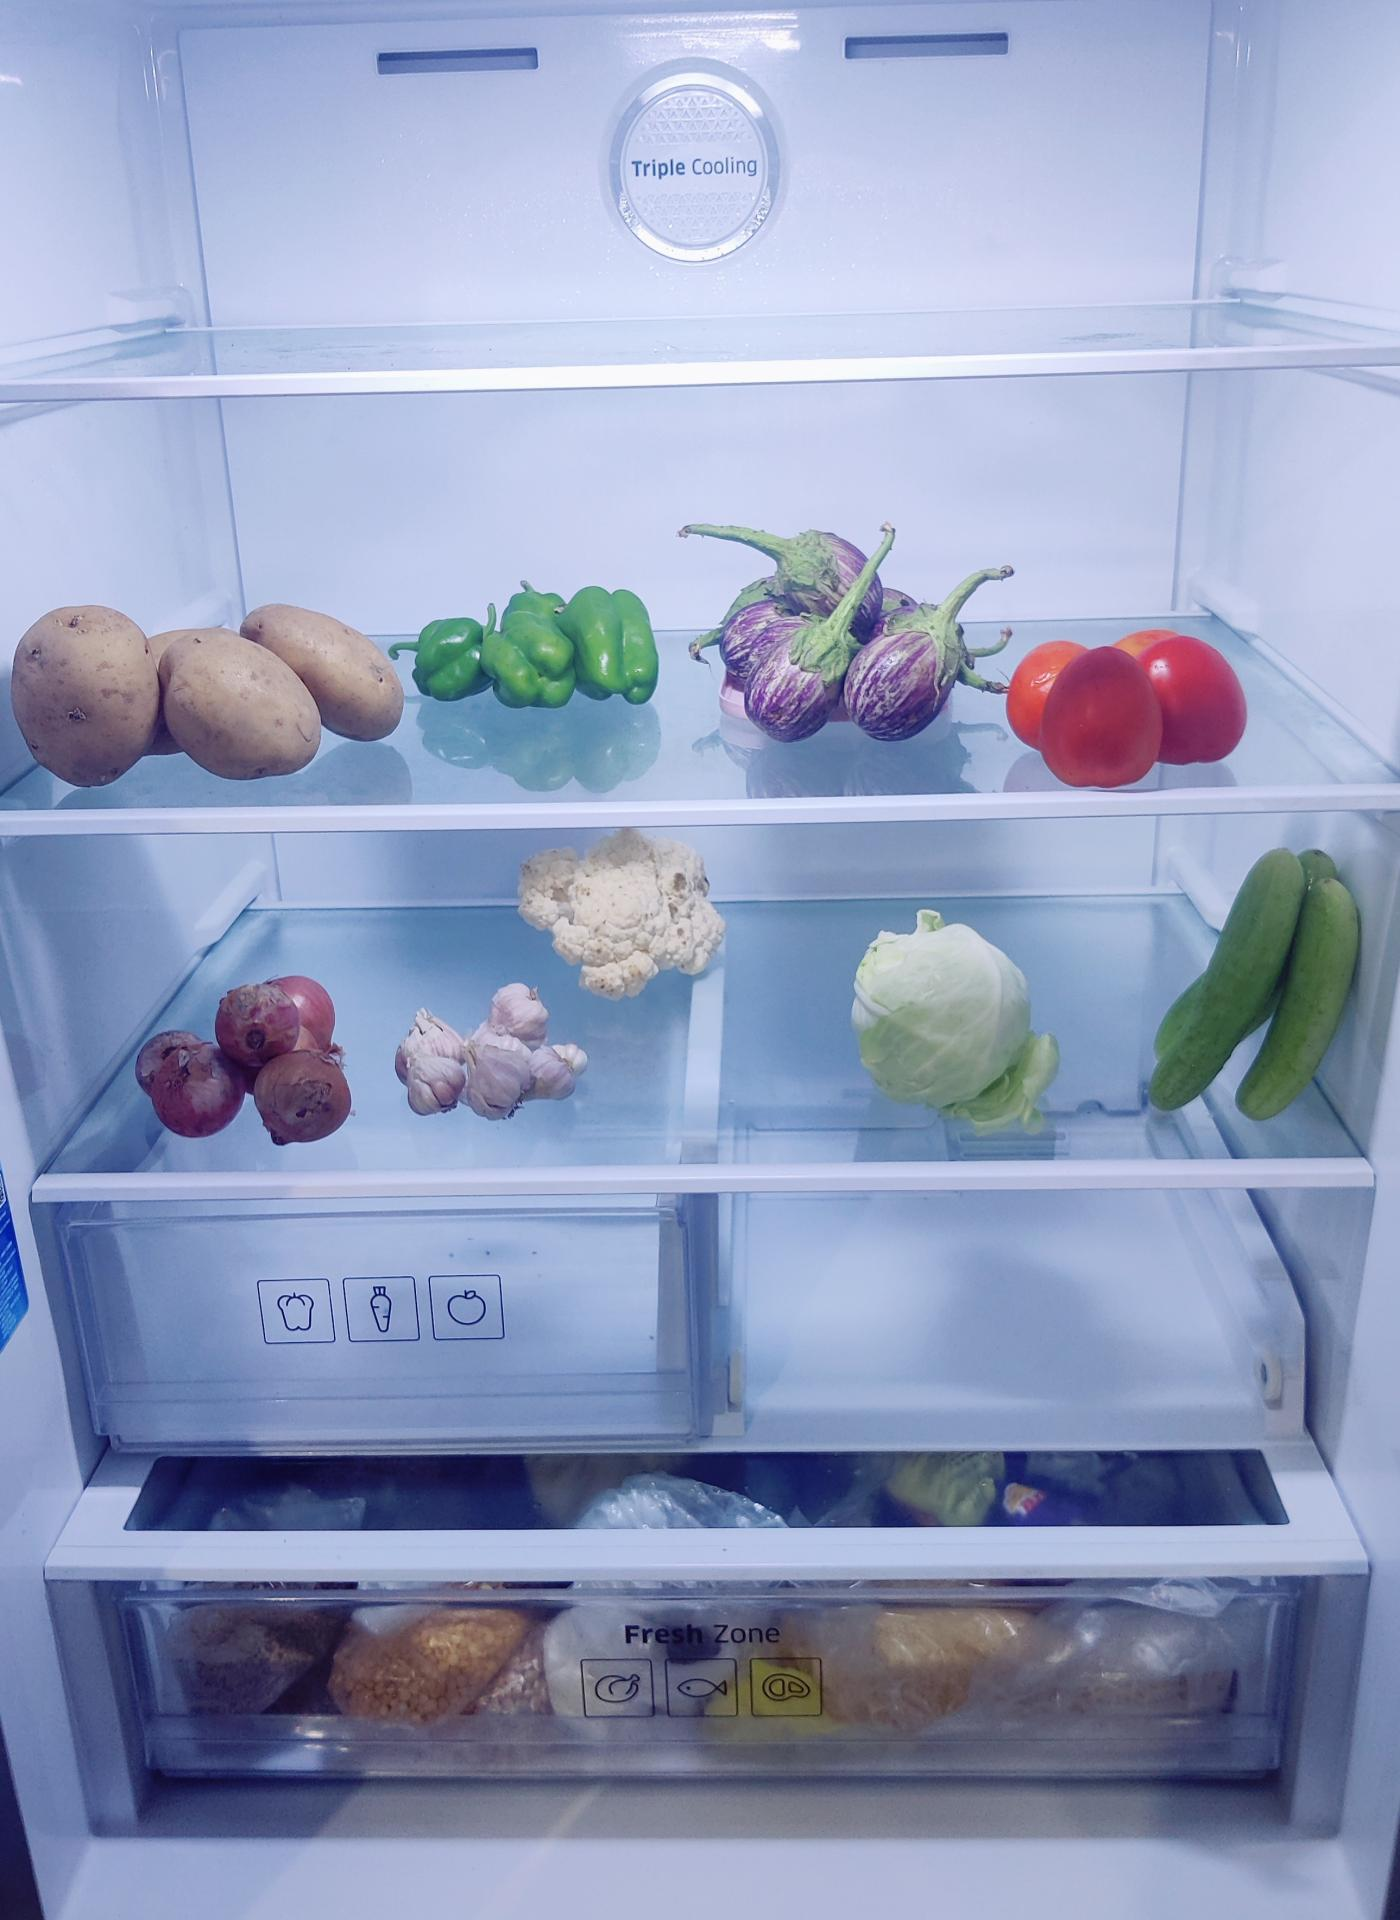brinjal: (723, 534, 971, 742)
cabbage: (856, 920, 1053, 1131)
capsicum: (407, 586, 658, 717)
carrots: (12, 595, 412, 778)
cauliflower: (522, 827, 728, 991)
cucumber: (1150, 838, 1364, 1115)
garlic: (398, 979, 580, 1117)
onion: (136, 973, 347, 1145)
tomato: (1011, 620, 1255, 783)
